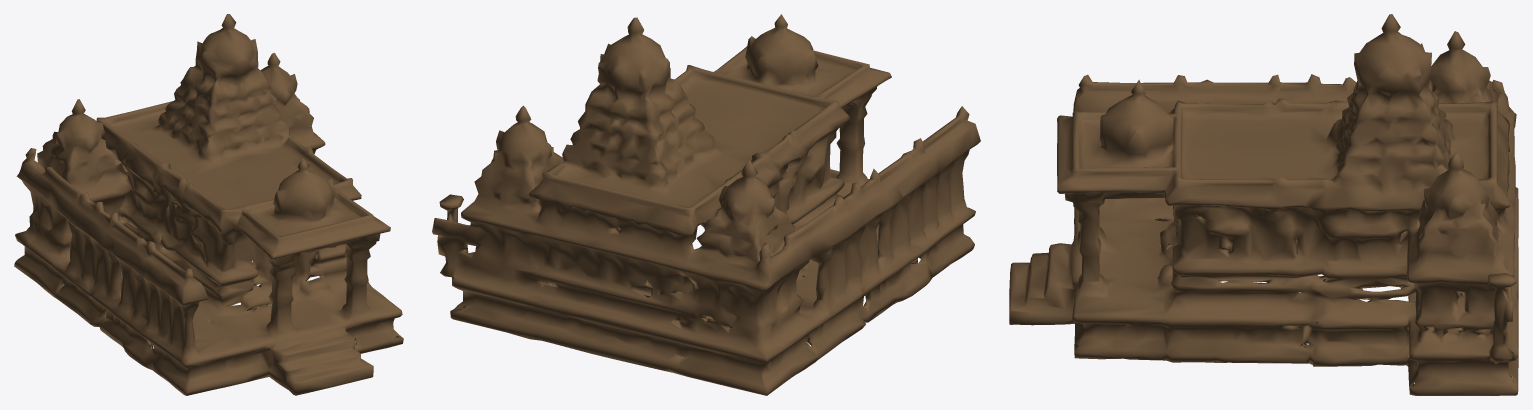
Rendered from Vittala Temple.glb.
The picture shows the model from 3 angles, left to right: view 1: azimuth 30°, elevation 25°; view 2: azimuth 150°, elevation 25°; view 3: azimuth 270°, elevation 25°; orthographic projection. The views are drawn at different scales.
Visible parts, largest first — view 1: tmpj5687nhi.ply; view 2: tmpj5687nhi.ply; view 3: tmpj5687nhi.ply.
Part boxes in pixels (x1,y1,x2,y2): tmpj5687nhi.ply: (14, 14, 403, 395); tmpj5687nhi.ply: (432, 14, 980, 395); tmpj5687nhi.ply: (1009, 14, 1518, 395).
Bounding box in the file's own units: 1.68 × 1.34 × 1.95.
